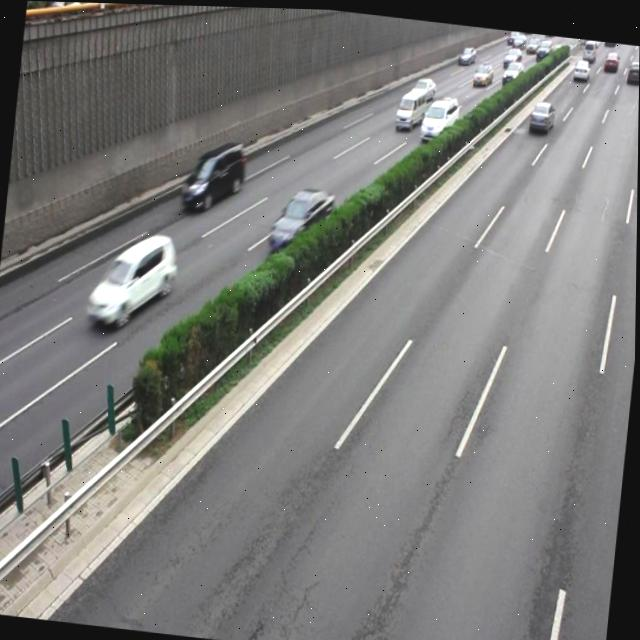car: (86, 226, 178, 332), (267, 179, 335, 256)
truck: (179, 133, 247, 217), (418, 90, 460, 142)
